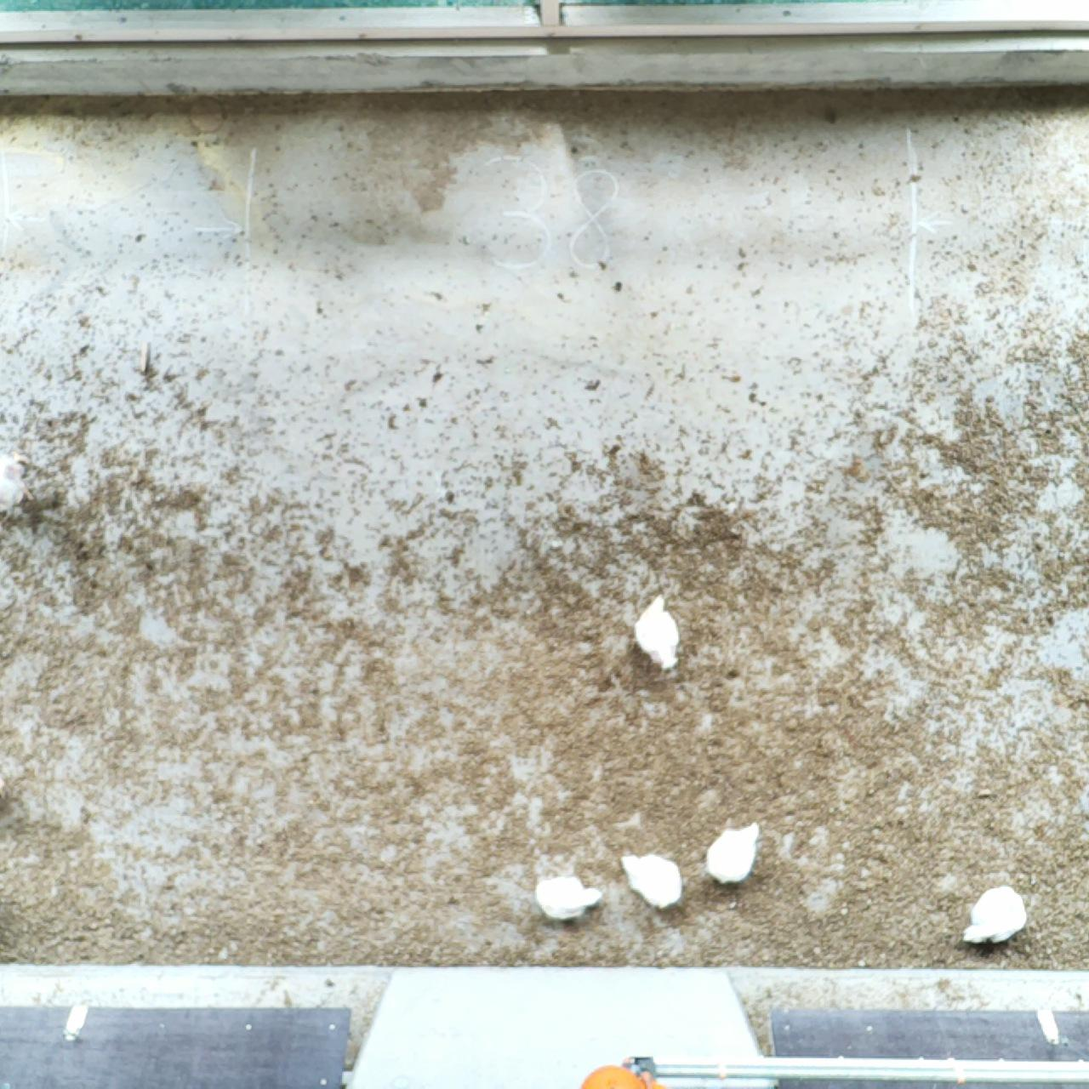chicken: (631, 589, 686, 676), (619, 847, 687, 913), (532, 869, 607, 928), (959, 886, 1029, 949), (701, 819, 763, 889)
